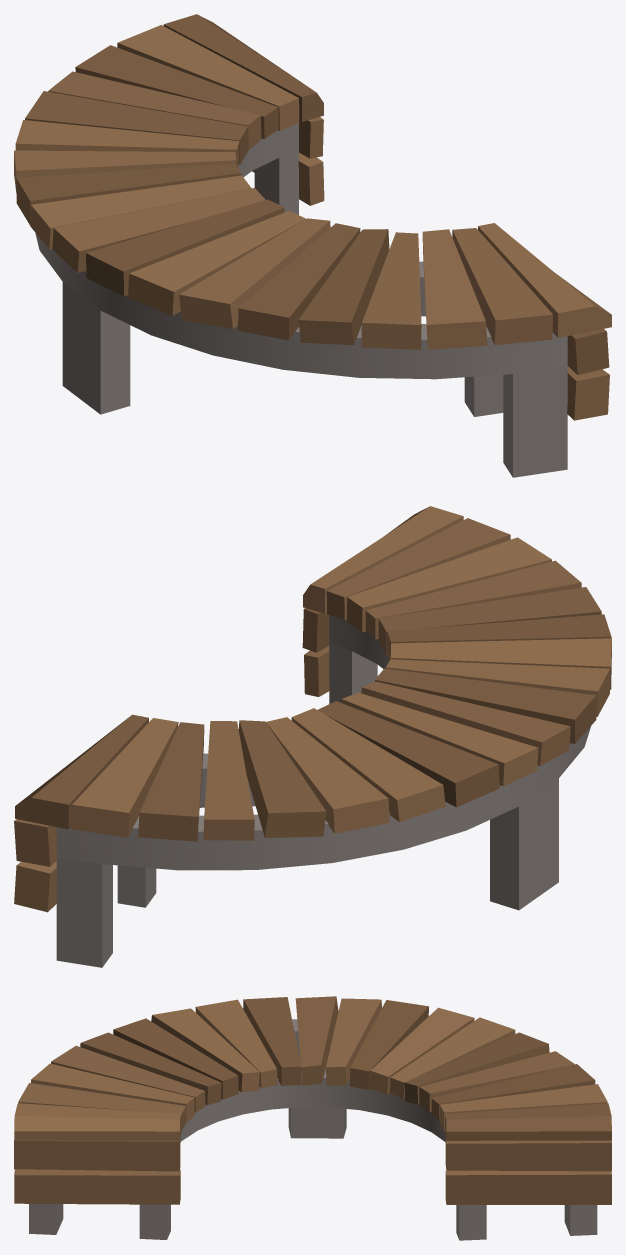
The model's file is Town_Bench_4.fbx.
The picture shows the model from 3 angles, top to bottom: view 1: azimuth 30°, elevation 25°; view 2: azimuth 150°, elevation 25°; view 3: azimuth 270°, elevation 25°; orthographic projection. The views are drawn at different scales.
Parts seen in each view (by area): view 1: Town_Bench_4; view 2: Town_Bench_4; view 3: Town_Bench_4.
Part boxes in pixels (x1=…): Town_Bench_4: x1=14, y1=14, x2=611, y2=477; Town_Bench_4: x1=14, y1=506, x2=611, y2=967; Town_Bench_4: x1=14, y1=996, x2=611, y2=1240.
Bounding box in the file's own units: 105 × 48.87 × 210.
1 material, 1 textured.
